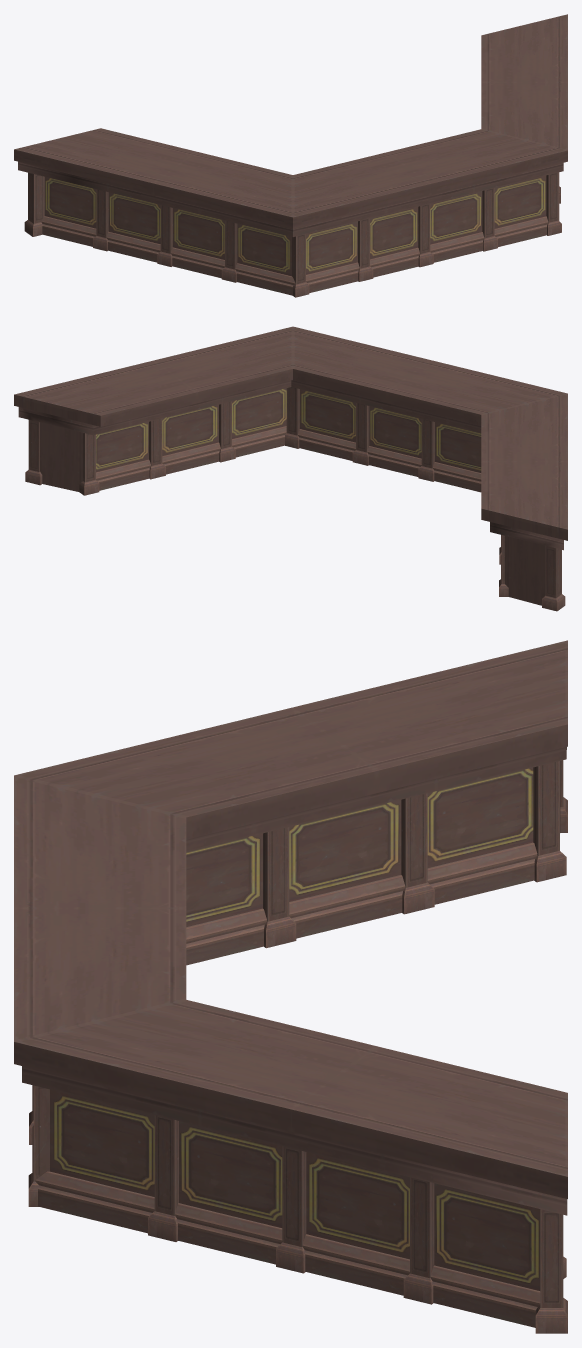
Rendered from Homeworld_Interior_Ly_Table_Counter_02_Vo.fbx.
3 views of the same model, one above another, from view 1: azimuth 30°, elevation 25°; view 2: azimuth 150°, elevation 25°; view 3: azimuth 270°, elevation 25° (orthographic). The views are drawn at different scales.
Visible parts, largest first — view 1: Homeworld_Interior_Ly_Table_Counter_02_Vo; view 2: Homeworld_Interior_Ly_Table_Counter_02_Vo; view 3: Homeworld_Interior_Ly_Table_Counter_02_Vo.
Boxes of the visible parts, x1,y1,x2,y2 form: Homeworld_Interior_Ly_Table_Counter_02_Vo: (14, 14, 567, 297); Homeworld_Interior_Ly_Table_Counter_02_Vo: (14, 326, 567, 611); Homeworld_Interior_Ly_Table_Counter_02_Vo: (14, 640, 567, 1333).
Bounding box in the file's own units: 6.94 × 1.01 × 3.03.
